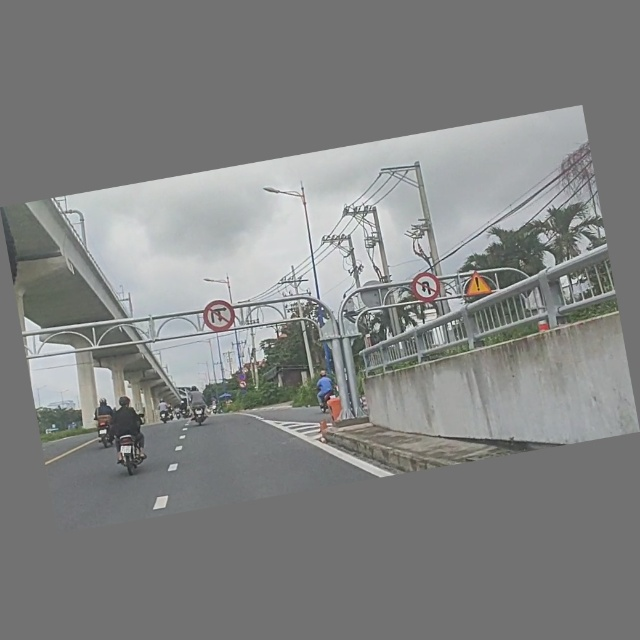P.123a: (238, 380, 249, 390)
P.124a*: (408, 270, 442, 304)
P.124d: (201, 298, 239, 336)
P.130: (236, 372, 247, 382)
W.233: (463, 269, 494, 298)
